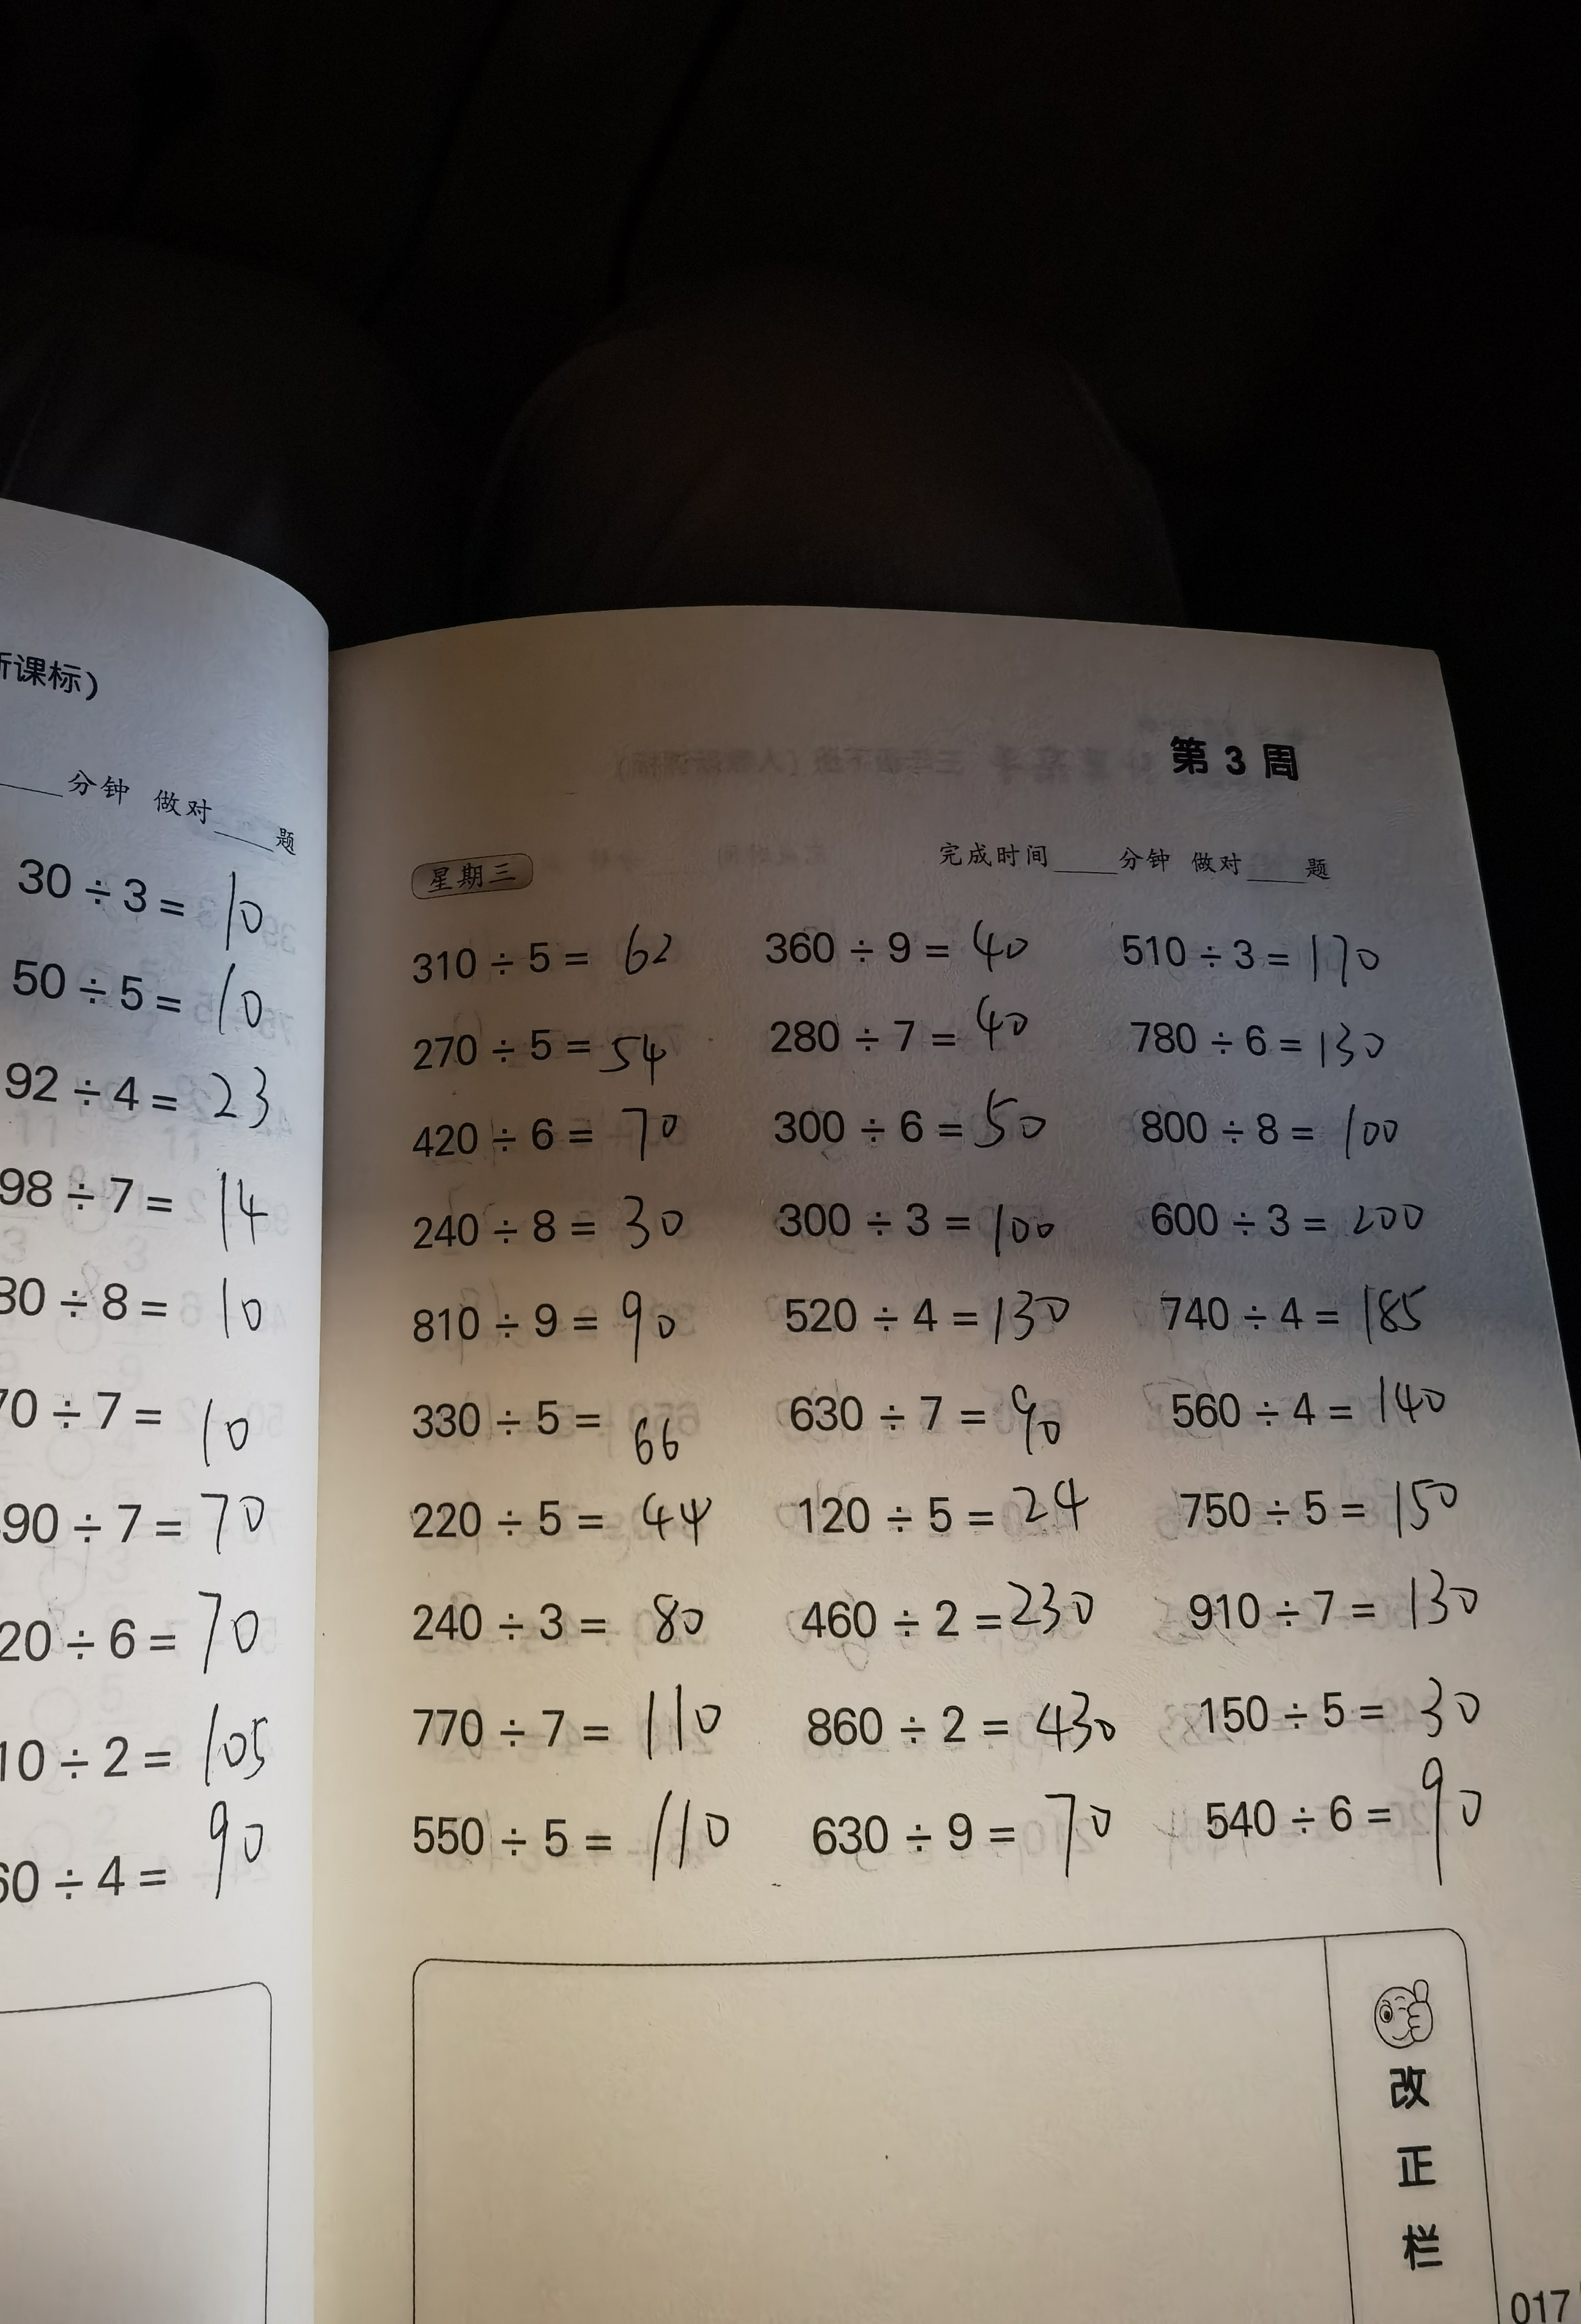equation: (1169, 1758, 1511, 1869), (766, 1471, 1133, 1565), (398, 1575, 730, 1673), (808, 1783, 1135, 1881), (788, 1676, 1133, 1768), (406, 1795, 768, 1883), (765, 1369, 1095, 1463), (404, 1682, 742, 1770), (768, 1182, 1095, 1271), (778, 1575, 1102, 1660), (1168, 1580, 1551, 1649), (388, 1385, 692, 1471), (1160, 1473, 1487, 1550), (1132, 1178, 1447, 1256), (1176, 1670, 1485, 1747), (784, 1279, 1095, 1355), (411, 1003, 697, 1084), (375, 916, 684, 987), (400, 1492, 720, 1560), (396, 1294, 720, 1360), (773, 1082, 1059, 1157), (1143, 1278, 1477, 1340), (408, 1106, 720, 1170), (1130, 1089, 1422, 1157), (416, 1200, 703, 1261), (1161, 1372, 1449, 1431), (1110, 926, 1407, 983), (1099, 1018, 1404, 1069), (760, 1000, 1042, 1055), (773, 926, 1036, 977)
